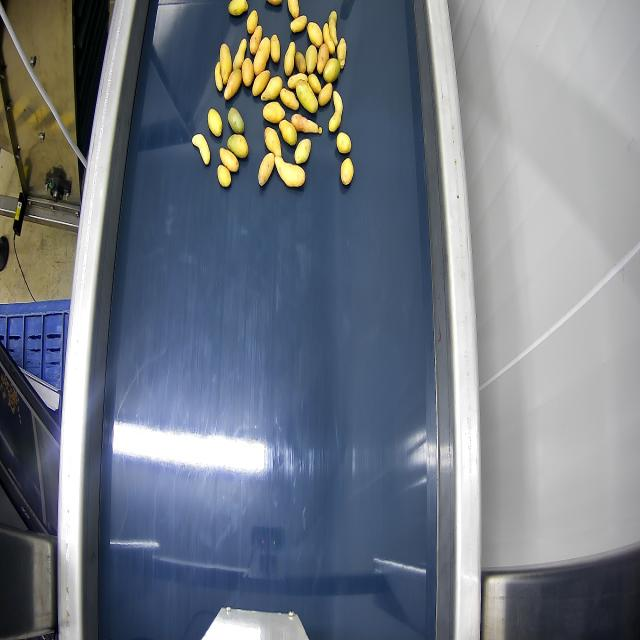Baby Potato: (275, 158, 305, 187), (296, 82, 318, 113), (253, 38, 270, 76), (291, 114, 322, 134), (329, 91, 343, 132), (192, 134, 210, 165), (259, 152, 275, 186), (224, 70, 242, 100), (261, 77, 282, 102), (227, 135, 248, 159), (220, 44, 232, 84), (252, 70, 270, 96), (227, 108, 245, 134), (279, 120, 297, 146), (263, 102, 285, 123), (265, 128, 281, 156), (280, 88, 299, 111), (233, 39, 247, 70), (220, 148, 238, 172), (323, 58, 340, 83), (241, 58, 255, 87), (295, 139, 311, 164), (249, 25, 262, 55), (208, 109, 222, 136), (317, 44, 330, 73), (307, 22, 322, 47), (284, 42, 295, 76), (323, 24, 335, 55), (328, 11, 338, 46), (305, 45, 317, 73), (318, 83, 332, 106), (341, 159, 353, 185), (288, 73, 307, 89), (214, 62, 224, 92), (337, 133, 351, 154), (270, 35, 280, 64), (337, 38, 346, 69), (218, 165, 230, 188), (247, 10, 258, 35), (308, 74, 321, 95), (290, 16, 307, 32), (229, 0, 247, 15), (294, 52, 306, 72), (288, 0, 299, 19), (267, 0, 281, 6)
